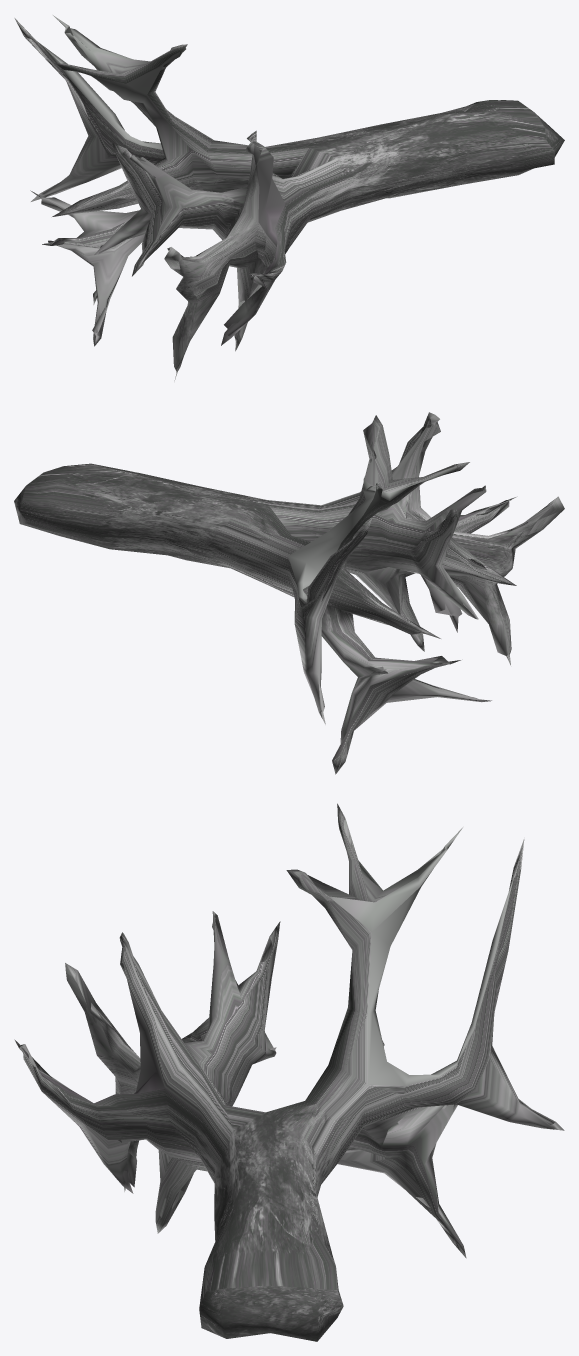
File: tree_fossil.obj
3 renders of one model, top to bottom at view 1: azimuth 30°, elevation 25°; view 2: azimuth 150°, elevation 25°; view 3: azimuth 270°, elevation 25°, orthographic. The views are drawn at different scales.
Visible parts, largest first — view 1: Cube; view 2: Cube; view 3: Cube.
Part boxes in pixels (bbox=[...]): Cube: bbox=[14, 15, 564, 381]; Cube: bbox=[14, 412, 564, 774]; Cube: bbox=[14, 803, 564, 1341].
Bounding box in the file's own units: 8.19 × 5.04 × 6.19.
